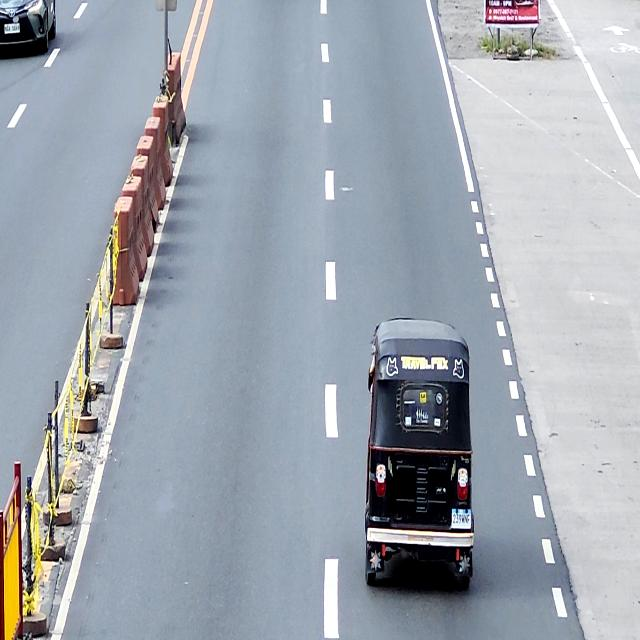Car: (0, 0, 58, 53)
E-bike: (364, 317, 475, 596)
License-Plate: (451, 508, 472, 530), (4, 24, 20, 34)
